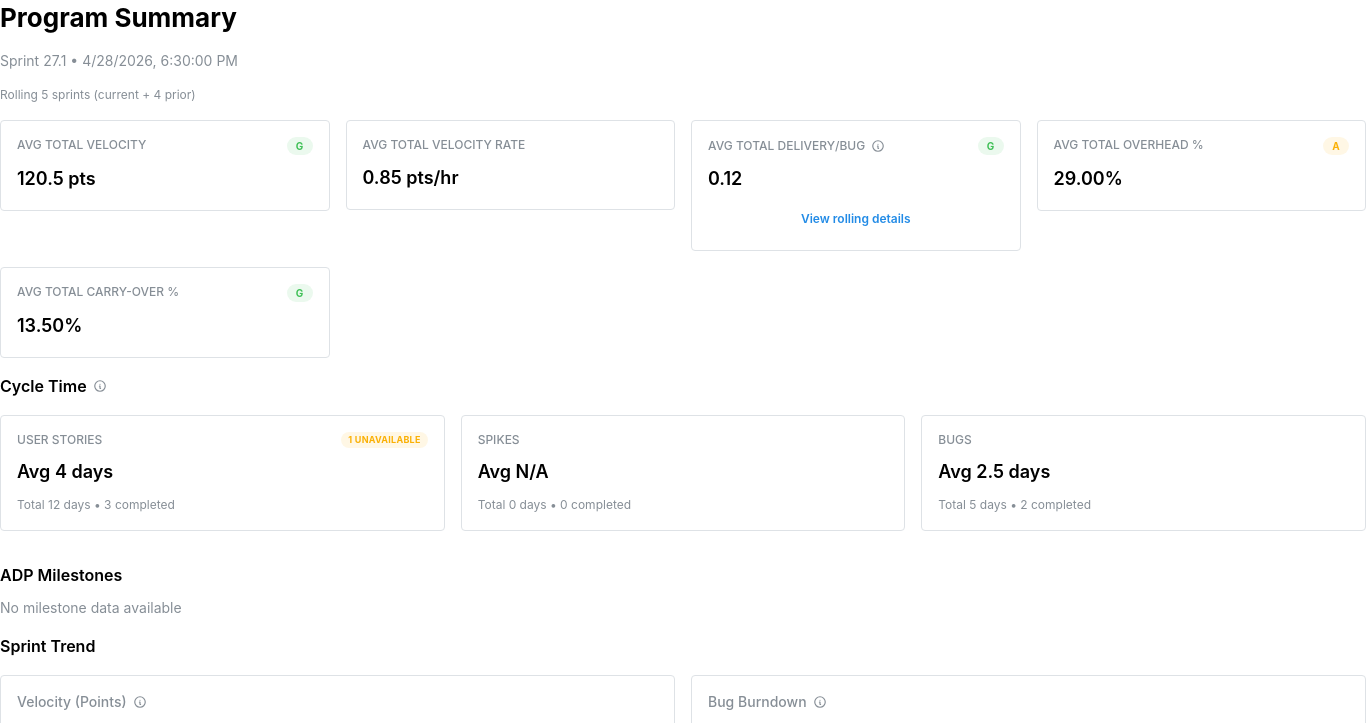
Test case: ProgramSummarySection › opens rolling metric details for supported program metrics
Click the button with aria-label "Open rolling details for Avg Total Delivery/Bug": click(856, 219) [708,204,1004,234]
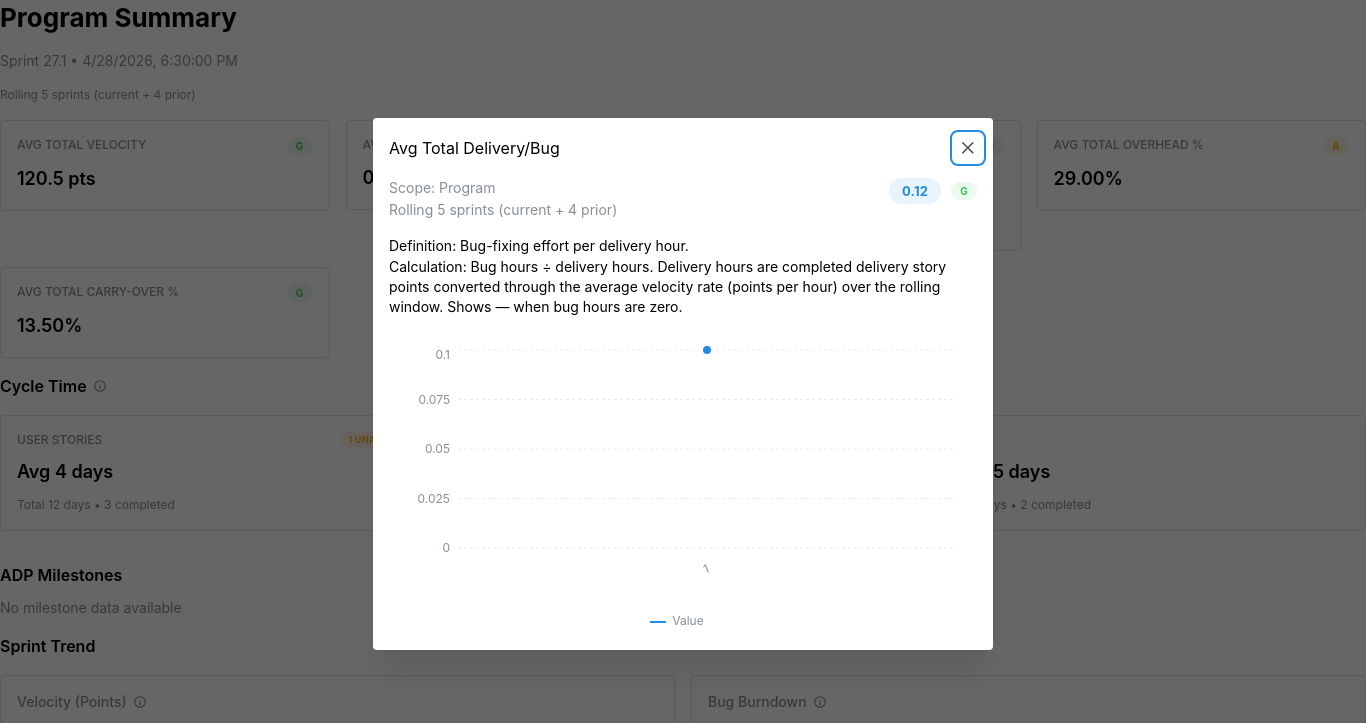
Result: the dialog "Avg Total Delivery/Bug" is shown at [373,118,993,650]
Result: the text "Scope: Program" is shown at [389,179,496,196]
